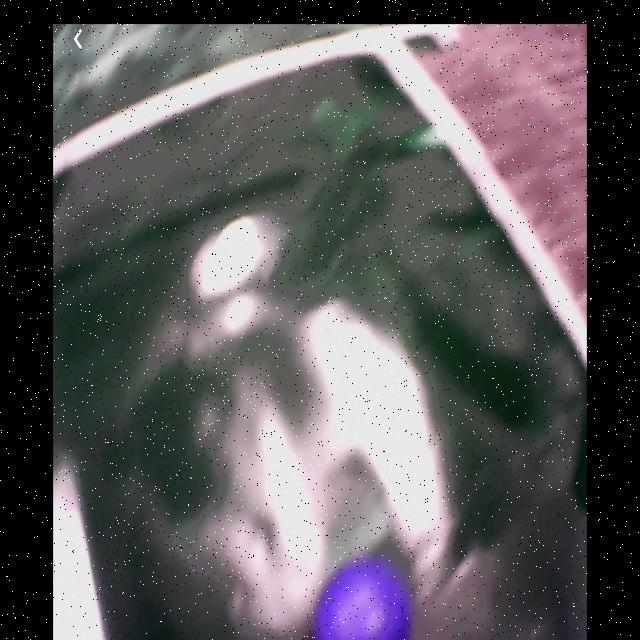ball: (312, 558, 412, 640)
